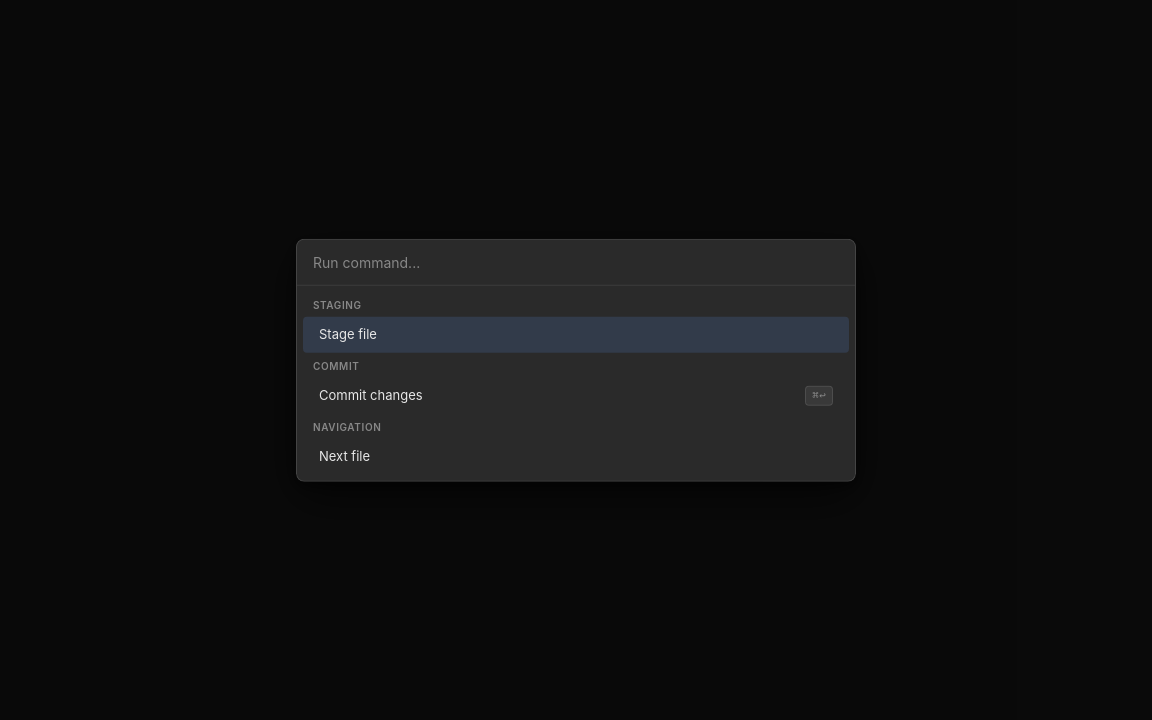
CommandPalette › filters results when typing in the input
Step 1. Type "Stage" into the dropdown → point(576, 263), box [297,240,855,286]
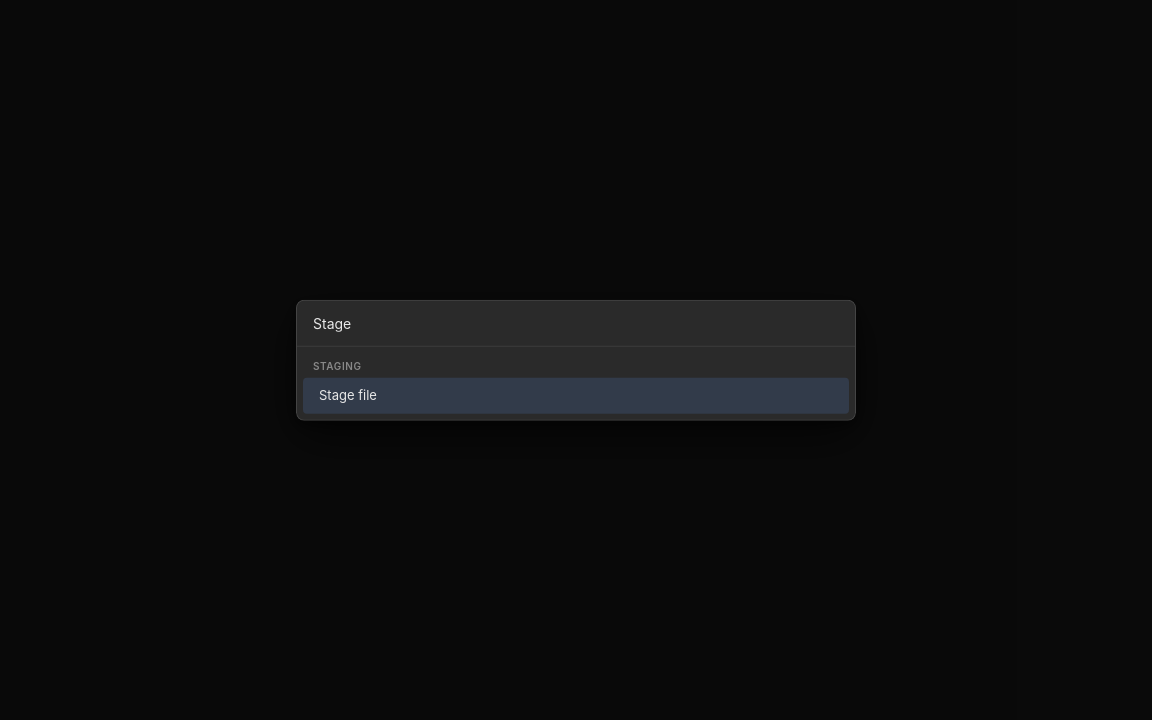
Expected: the text "Stage file" is shown, [319,387,377,403]
Expected: the option "Commit changes" is gone
Expected: the option "Next file" is gone
